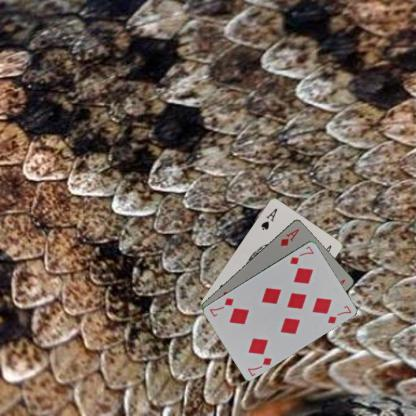7d: (287, 243, 315, 266), (245, 354, 273, 376)
Ad: (278, 226, 300, 247)
As: (258, 205, 278, 231)
